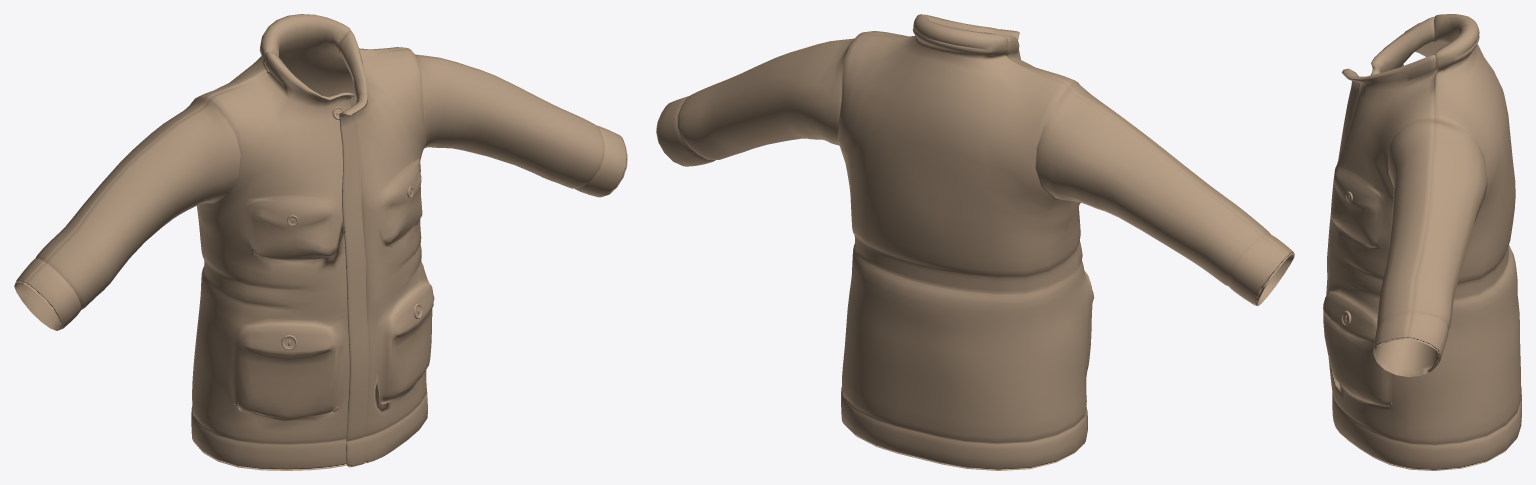
File: Coat03.obj
3 views of the same model, side by side, from view 1: azimuth 30°, elevation 25°; view 2: azimuth 150°, elevation 25°; view 3: azimuth 270°, elevation 25° (orthographic). The views are drawn at different scales.
Parts seen in each view (by area): view 1: (null); view 2: (null); view 3: (null).
Part boxes in pixels (left/top/right/bottom): (null): left=14, top=14, right=627, bottom=470; (null): left=656, top=14, right=1294, bottom=470; (null): left=1323, top=14, right=1521, bottom=470.
Size of the model in its own units: 1.31 by 0.8368 by 0.3807.
